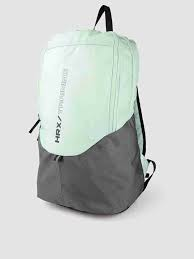backpack: (29, 4, 156, 215)
